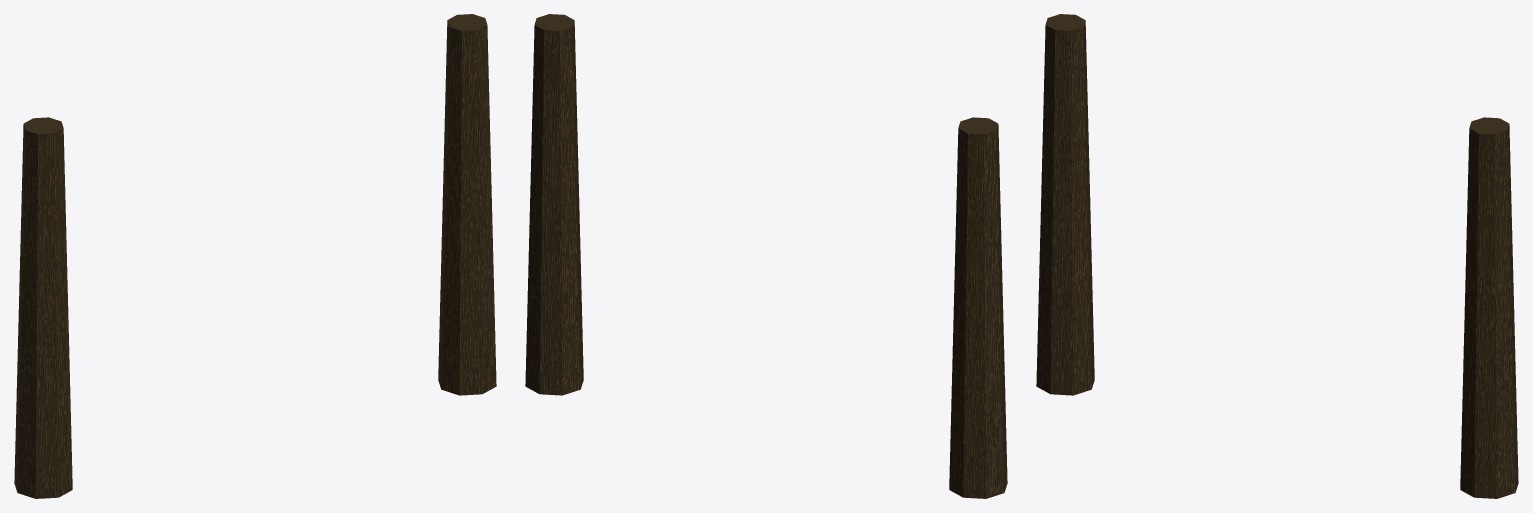
The picture shows the model from 3 angles, left to right: view 1: azimuth 30°, elevation 25°; view 2: azimuth 150°, elevation 25°; view 3: azimuth 330°, elevation 25°; orthographic projection.
Parts seen in each view (by area): view 1: Postes_de_madera.005; view 2: Postes_de_madera.005; view 3: Postes_de_madera.005.
Part boxes in pixels (x1=…): Postes_de_madera.005: x1=14, y1=14, x2=496, y2=498; Postes_de_madera.005: x1=525, y1=14, x2=1007, y2=498; Postes_de_madera.005: x1=1036, y1=14, x2=1518, y2=498.
Bounding box in the file's own units: 1.22 × 0.883 × 0.134.
Materials: 1 (1 with a texture image).
